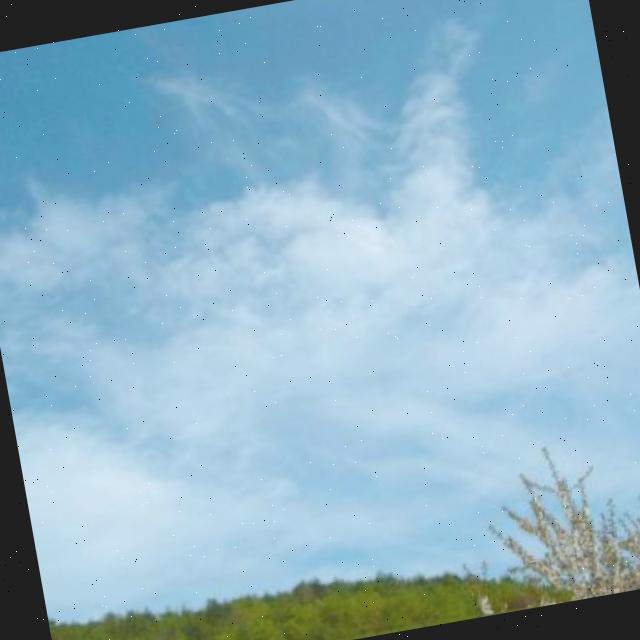Ci: (1, 1, 640, 509)
